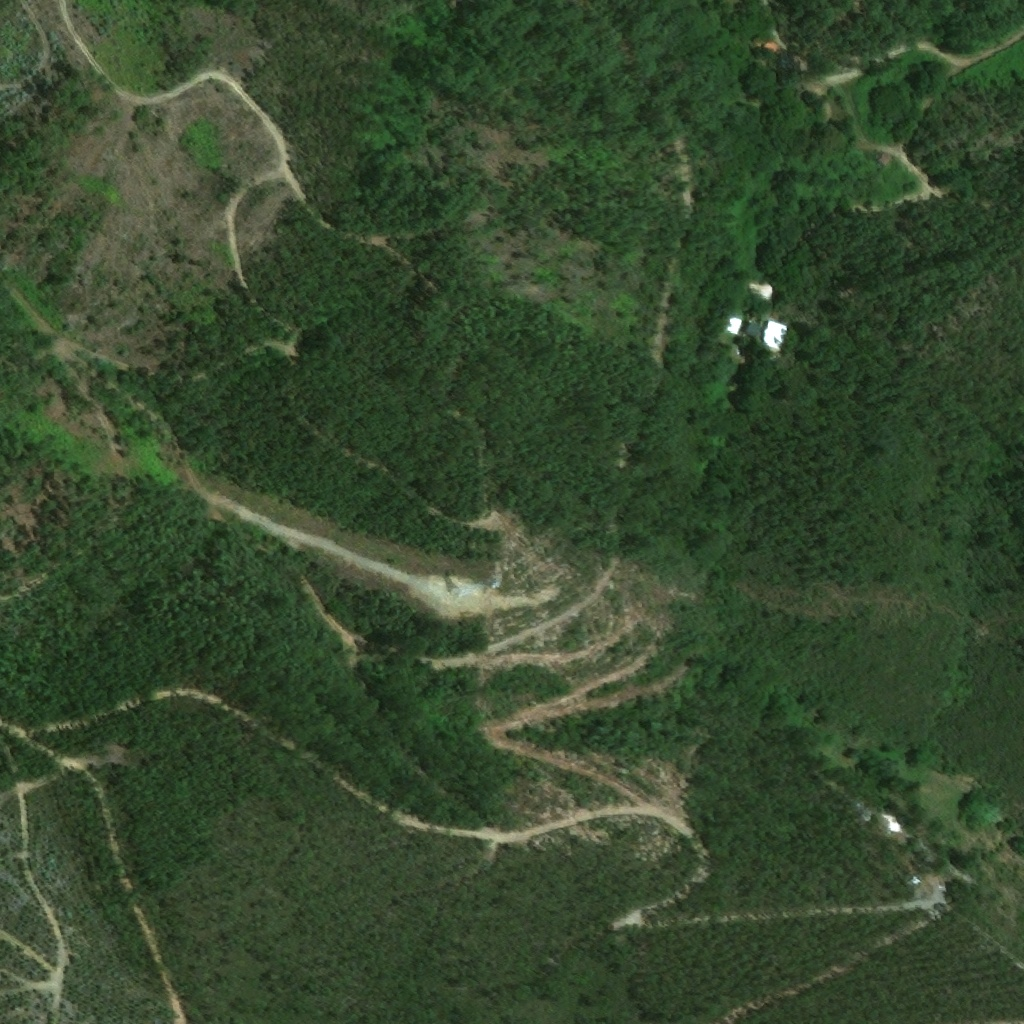0 no-damage: (751, 34, 811, 83), (744, 315, 784, 347), (879, 153, 896, 168)
4 un-classified: (942, 886, 953, 900)
